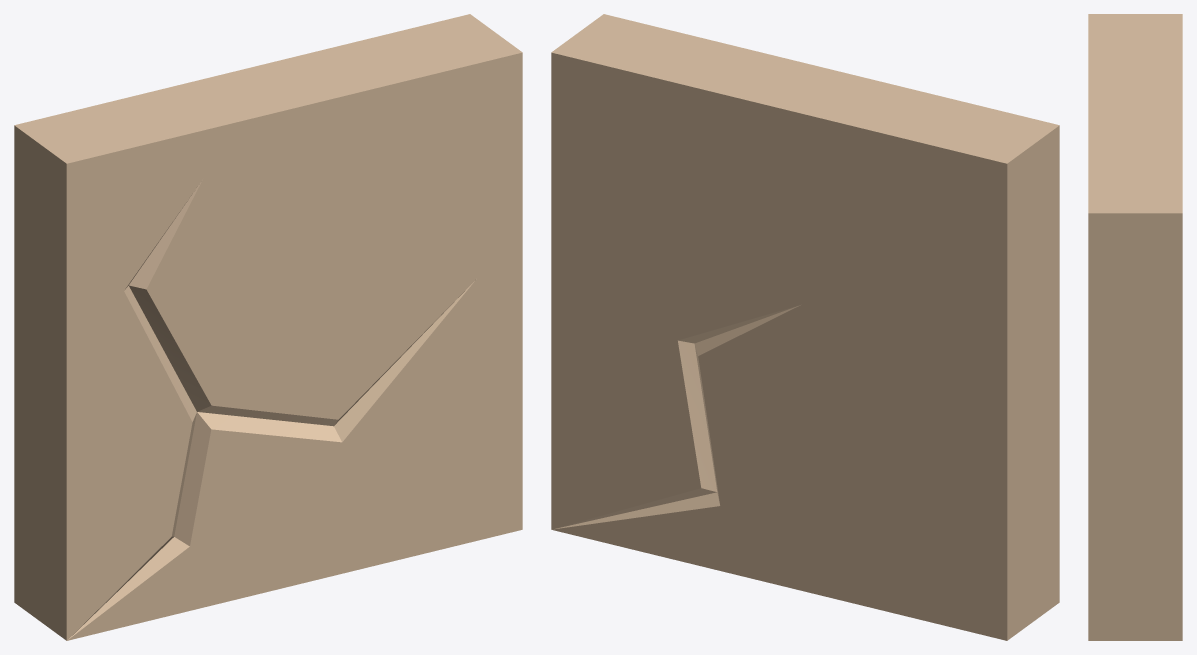
File: Wall_Ruined_Full_Cracked_2.fbx
3 views of the same model, side by side, from view 1: azimuth 30°, elevation 25°; view 2: azimuth 150°, elevation 25°; view 3: azimuth 270°, elevation 25° (orthographic). The views are drawn at different scales.
Visible parts, largest first — view 1: object1; view 2: object1; view 3: object1.
Boxes of the visible parts, left/top/right/bottom form: object1: left=14, top=14, right=522, bottom=640; object1: left=551, top=14, right=1059, bottom=640; object1: left=1088, top=14, right=1182, bottom=640.
Bounding box in the file's own units: 1 × 1 × 0.2.
